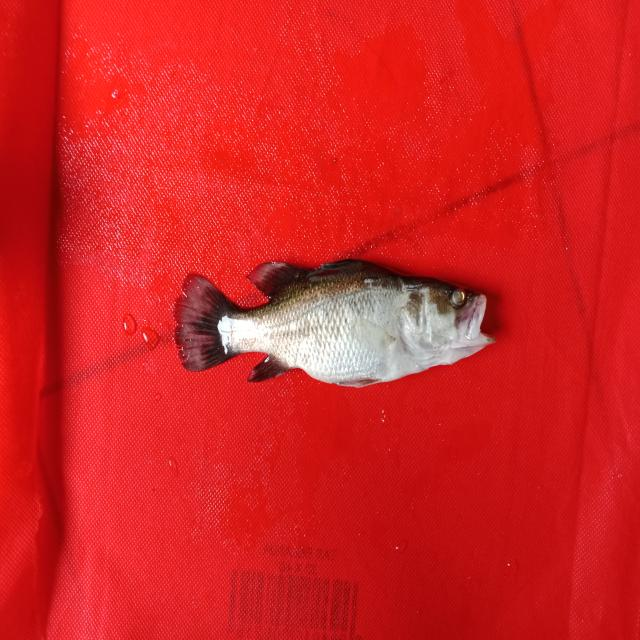ikan: (166, 242, 506, 410)
